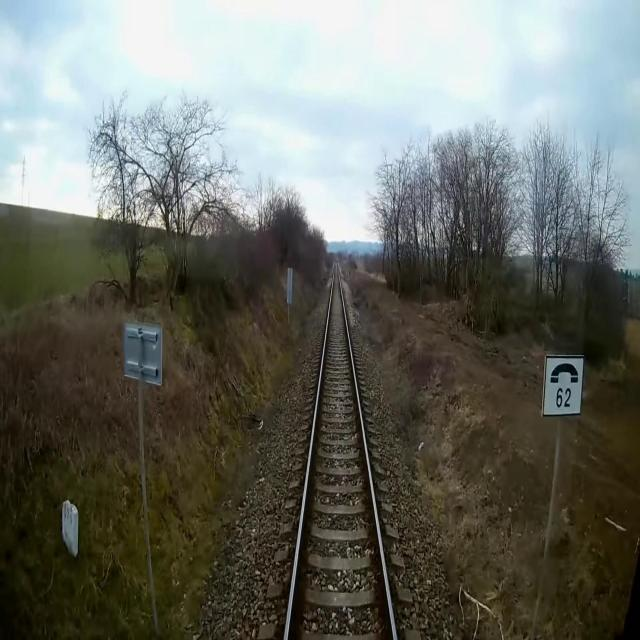rail-track: (288, 261, 392, 639)
